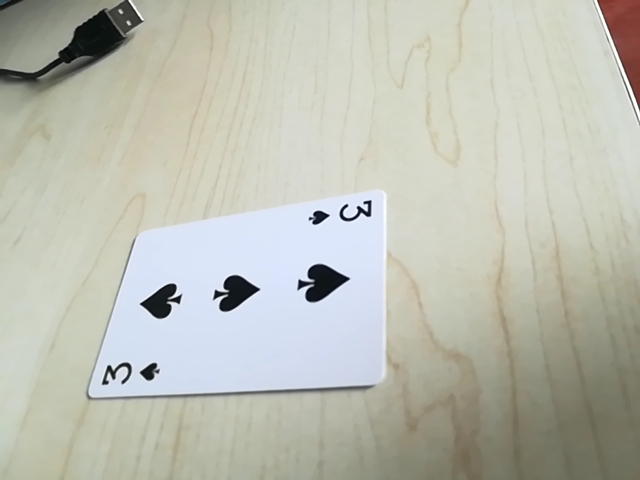ht 3: (94, 355, 166, 395), (305, 195, 377, 230)
